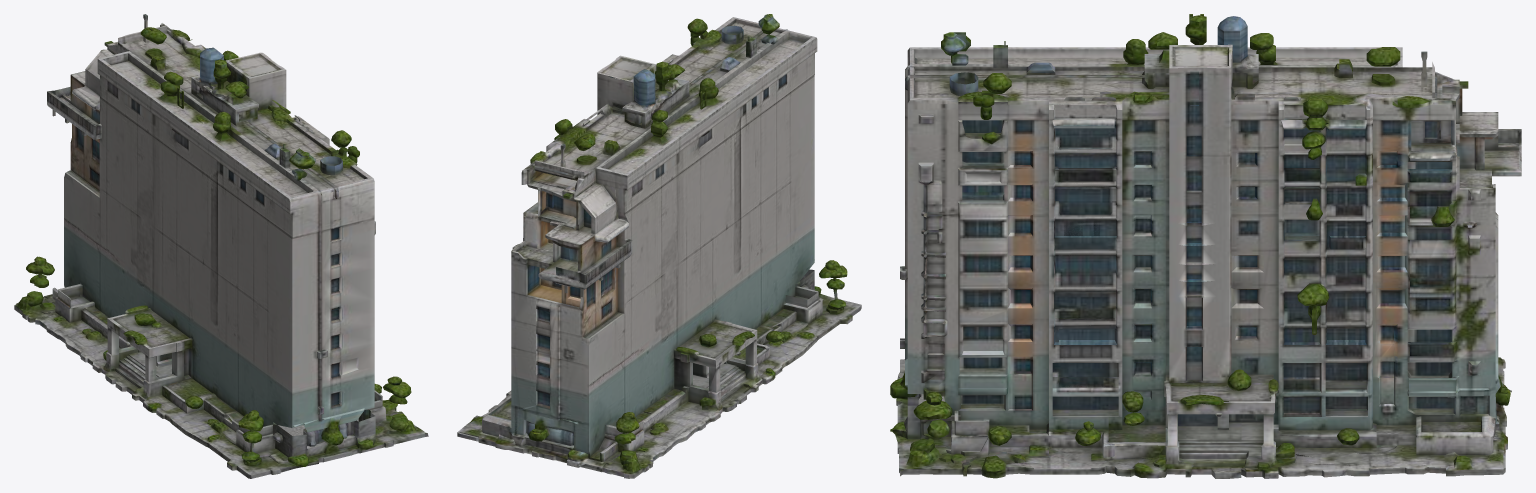
File: apartment-slab.glb
The picture shows the model from 3 angles, left to right: view 1: azimuth 30°, elevation 25°; view 2: azimuth 150°, elevation 25°; view 3: azimuth 270°, elevation 25°; orthographic projection. The views are drawn at different scales.
Parts seen in each view (by area): view 1: tripo_node_8bde30dc-61d0-4e17-88dc-87938292941a; view 2: tripo_node_8bde30dc-61d0-4e17-88dc-87938292941a; view 3: tripo_node_8bde30dc-61d0-4e17-88dc-87938292941a.
Boxes of the visible parts, x1,y1,x2,y2 form: tripo_node_8bde30dc-61d0-4e17-88dc-87938292941a: [14, 14, 428, 478]; tripo_node_8bde30dc-61d0-4e17-88dc-87938292941a: [457, 14, 861, 478]; tripo_node_8bde30dc-61d0-4e17-88dc-87938292941a: [890, 14, 1521, 478].
Size of the model in its own units: 0.4423 by 0.7006 by 0.9961.
1 material, 1 textured.
